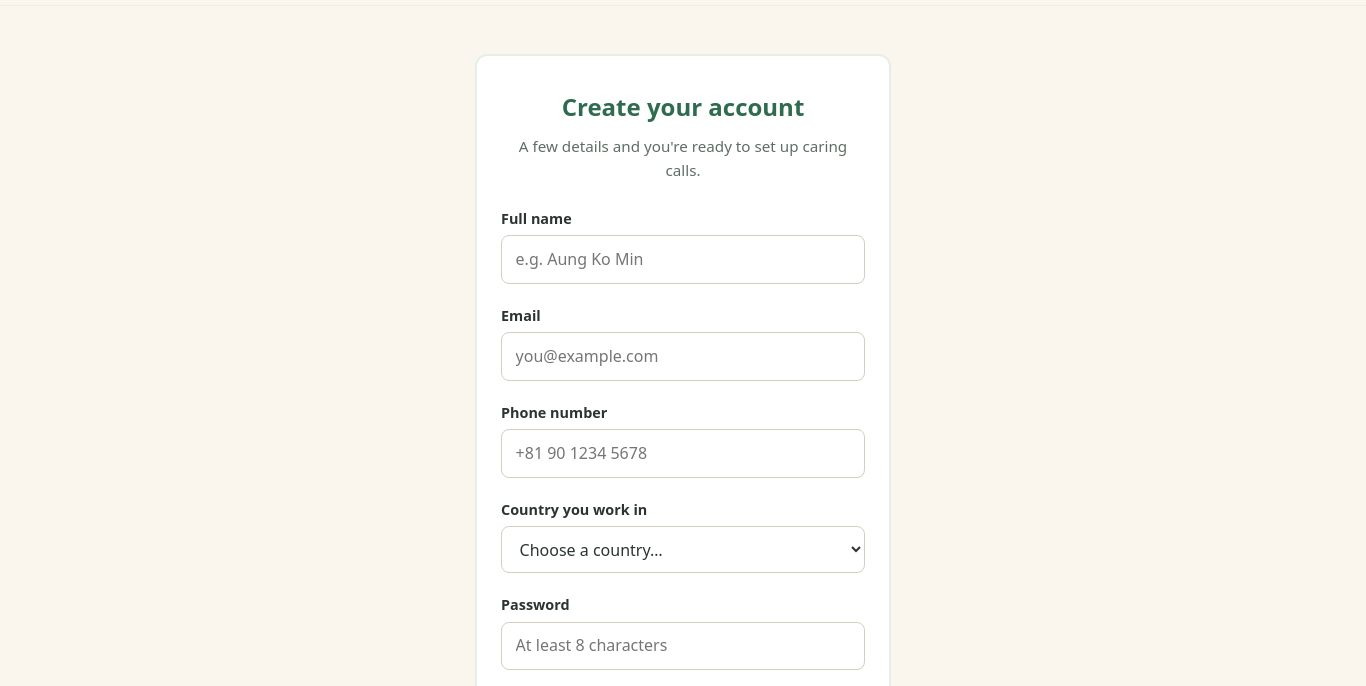
Test case: signup › duplicate email is rejected with the server message
In the field labelled "Full name": (683, 259) [501,235,865,284], type "Aye Chan"
In the field labelled "Email": (683, 356) [501,332,865,381], type "ayechan@example.com"
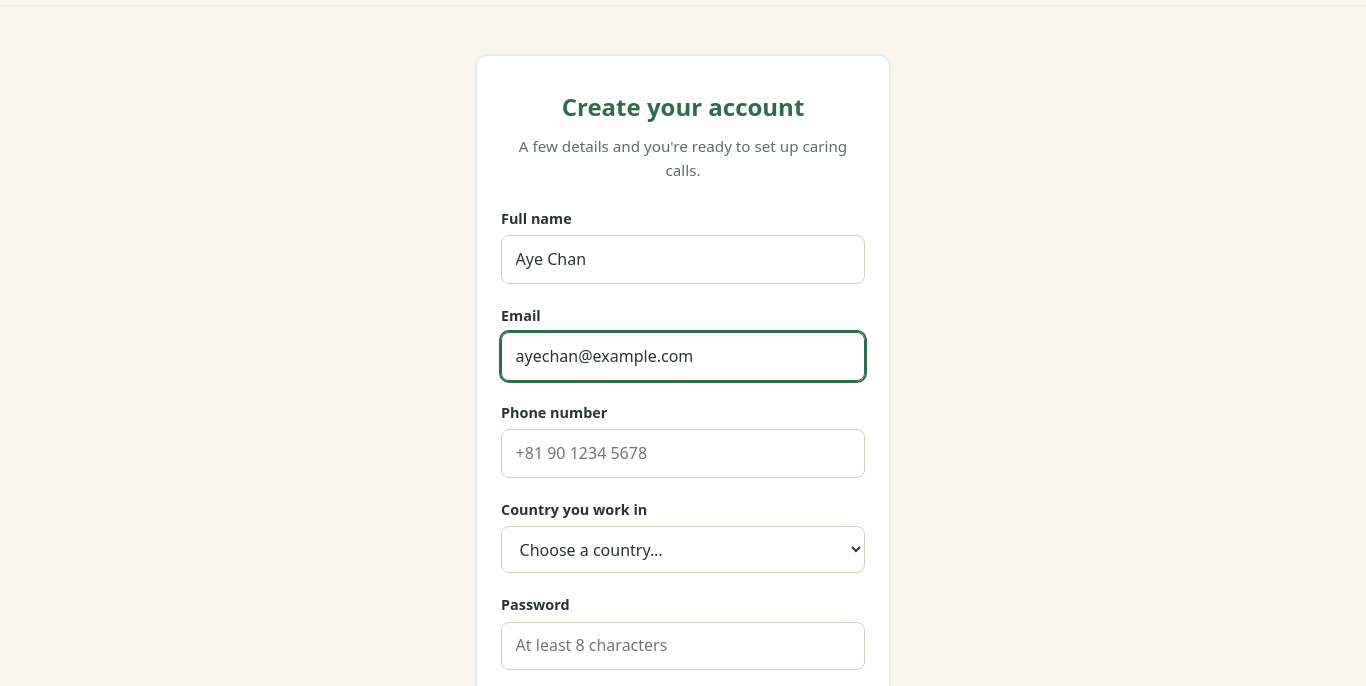
In the field labelled "Phone number": (683, 453) [501,429,865,478], type "+65 9123 4567"
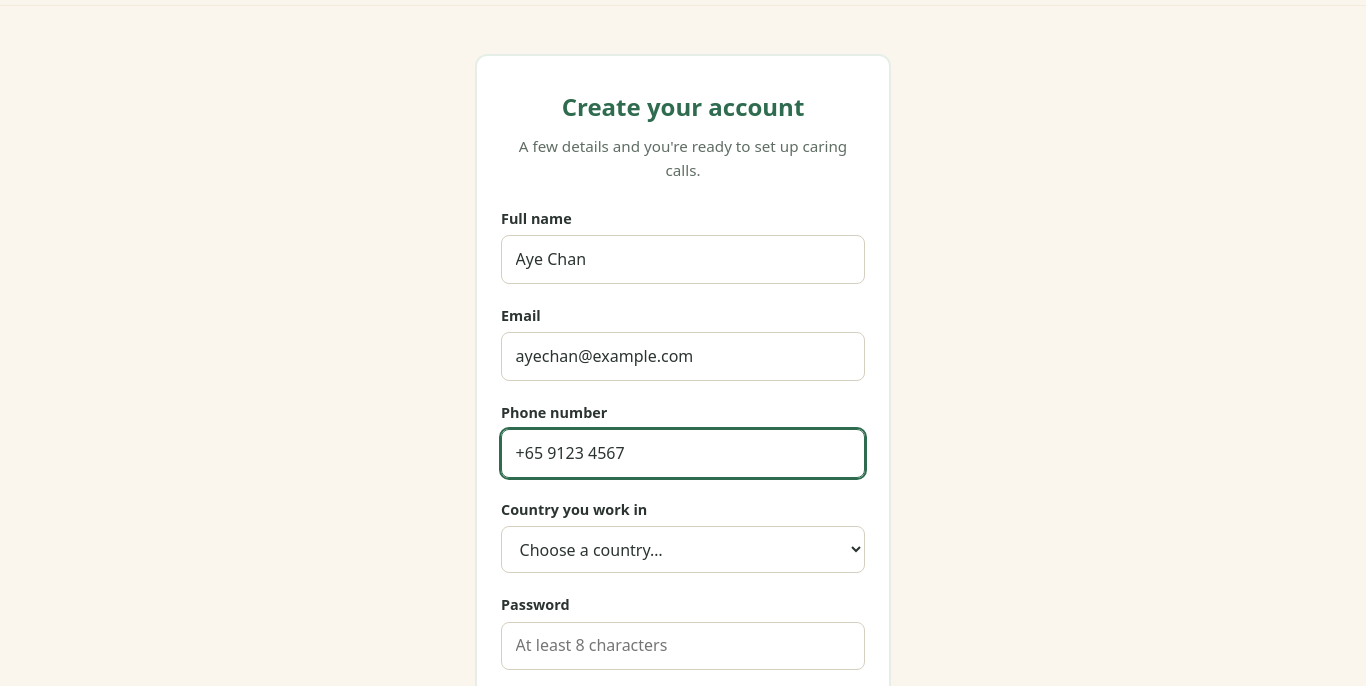
Select "Singapore" in the dropdown labelled "Country you work in": (683, 550) [501,526,865,573]
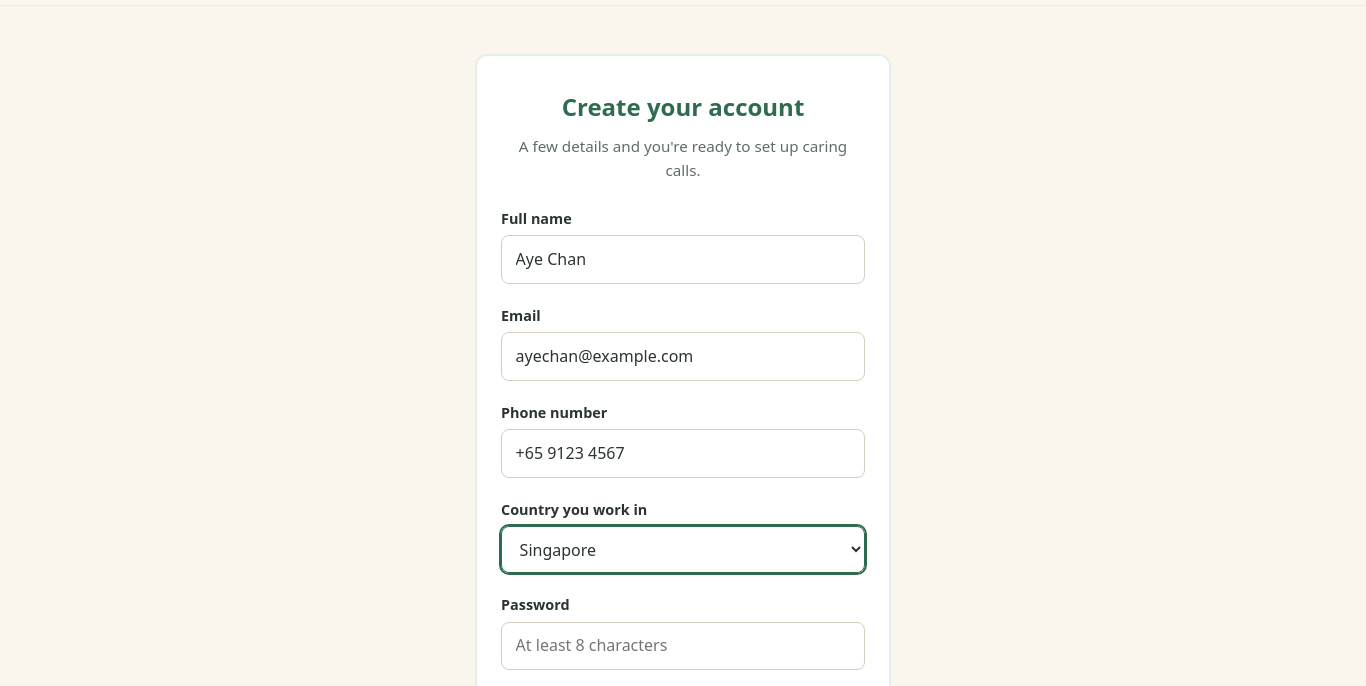
In the password field labelled "Password": (683, 646) [501,622,865,670], type "testpass123"
(page scrolled)
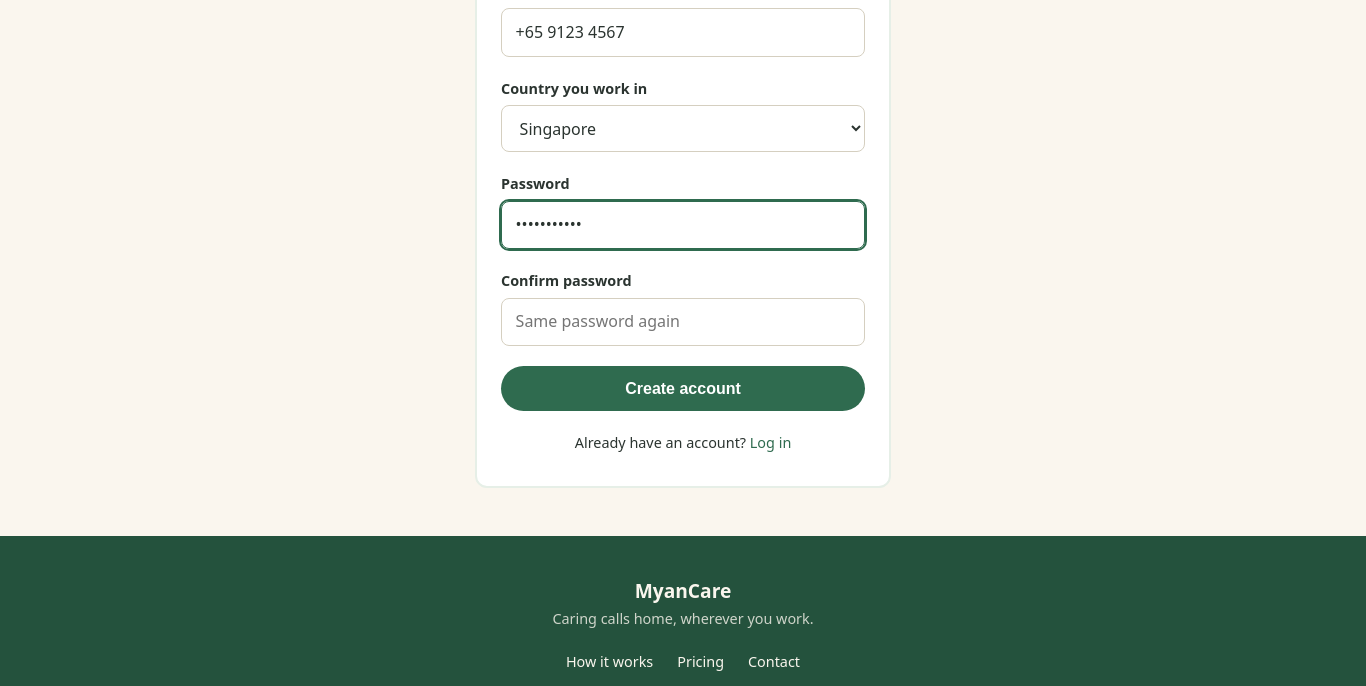
In the password field labelled "Confirm password": (683, 322) [501,298,865,346], type "testpass123"
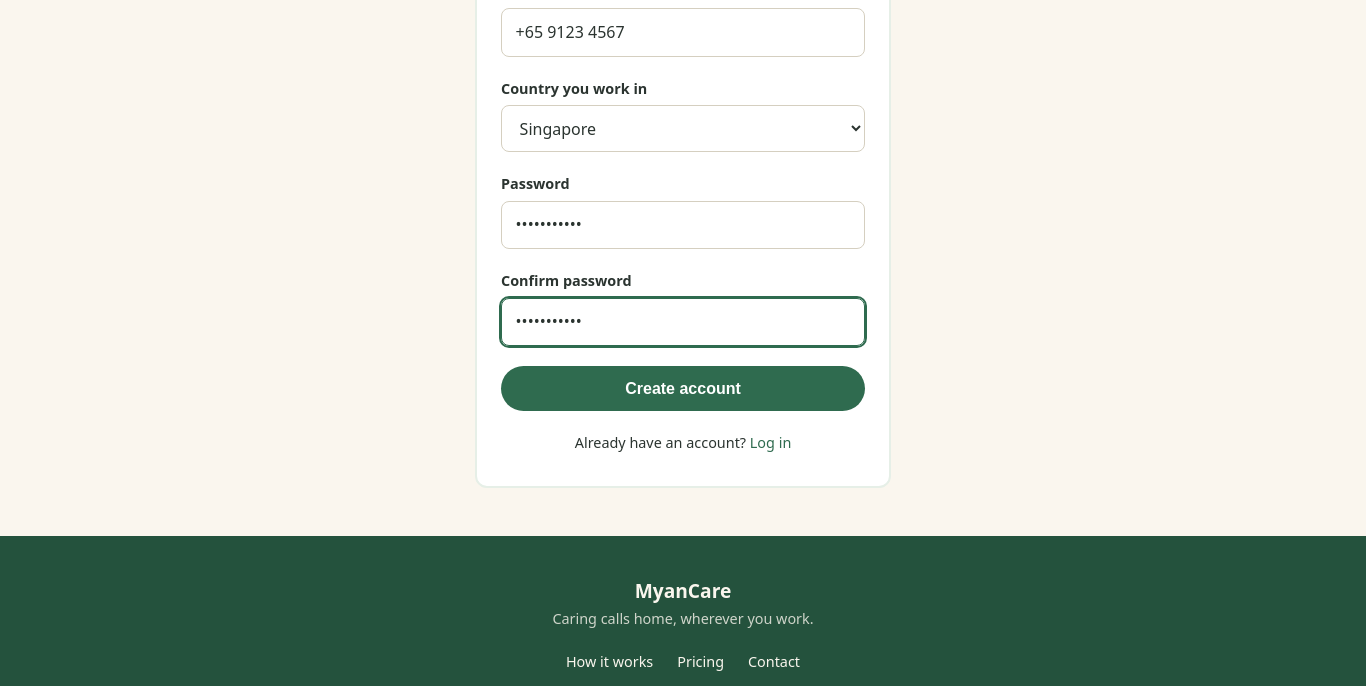
Click the button "Create account": (683, 389) [501,366,865,411]
(page scrolled)
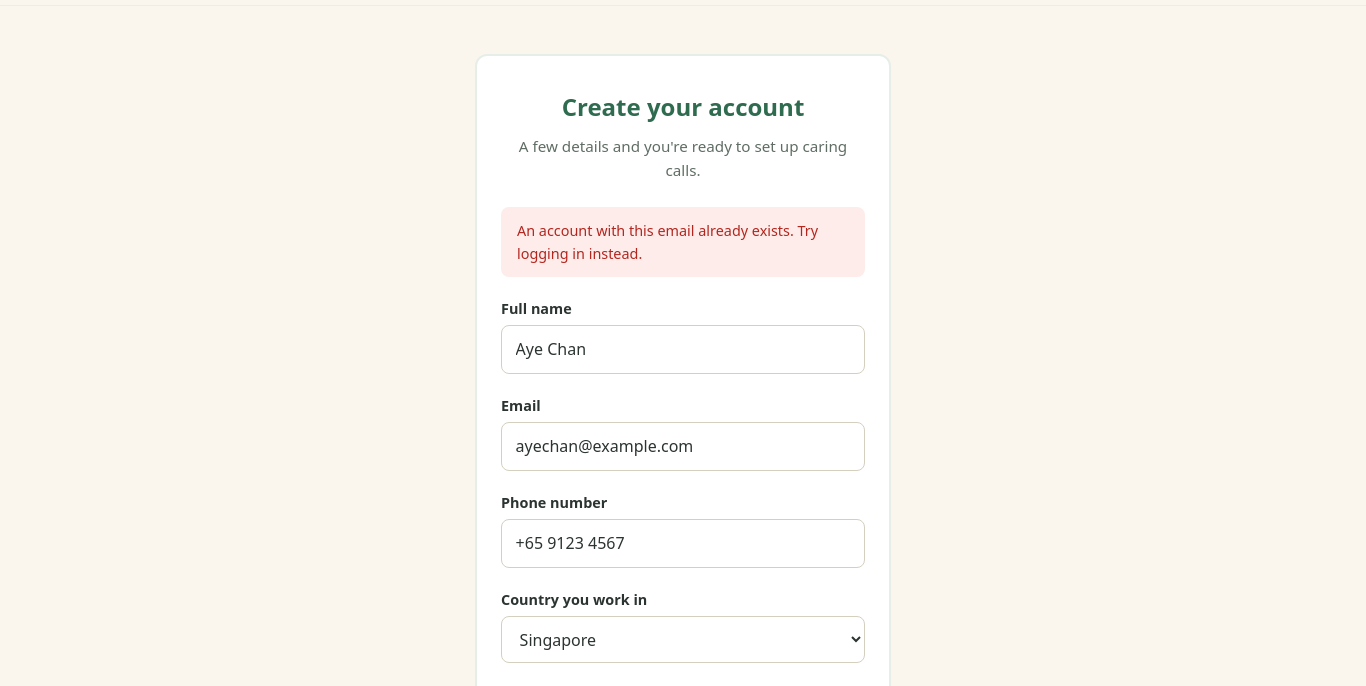
Expected: the text "An account with this email already exists. Try logging in instead." is shown, [501,206,865,277]
